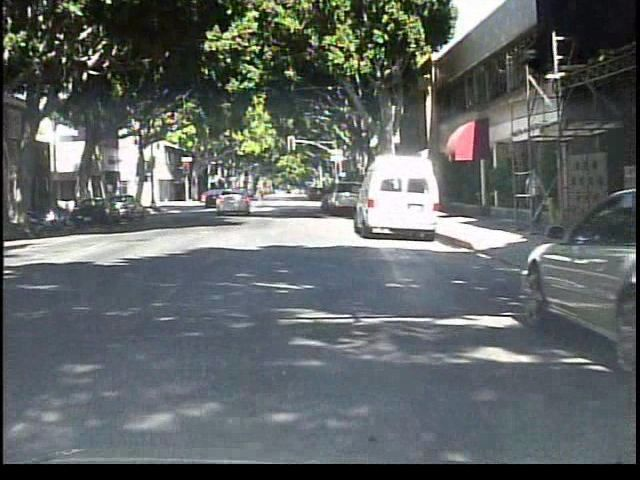person: (520, 163, 547, 232), (250, 175, 270, 208)
